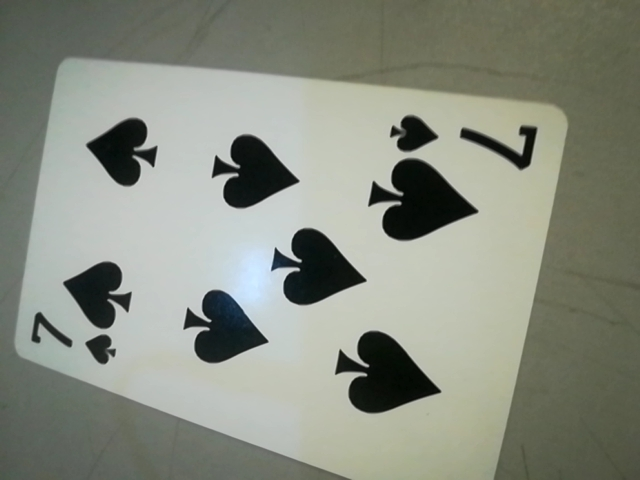ht 7: (388, 107, 547, 174), (18, 288, 129, 377)
